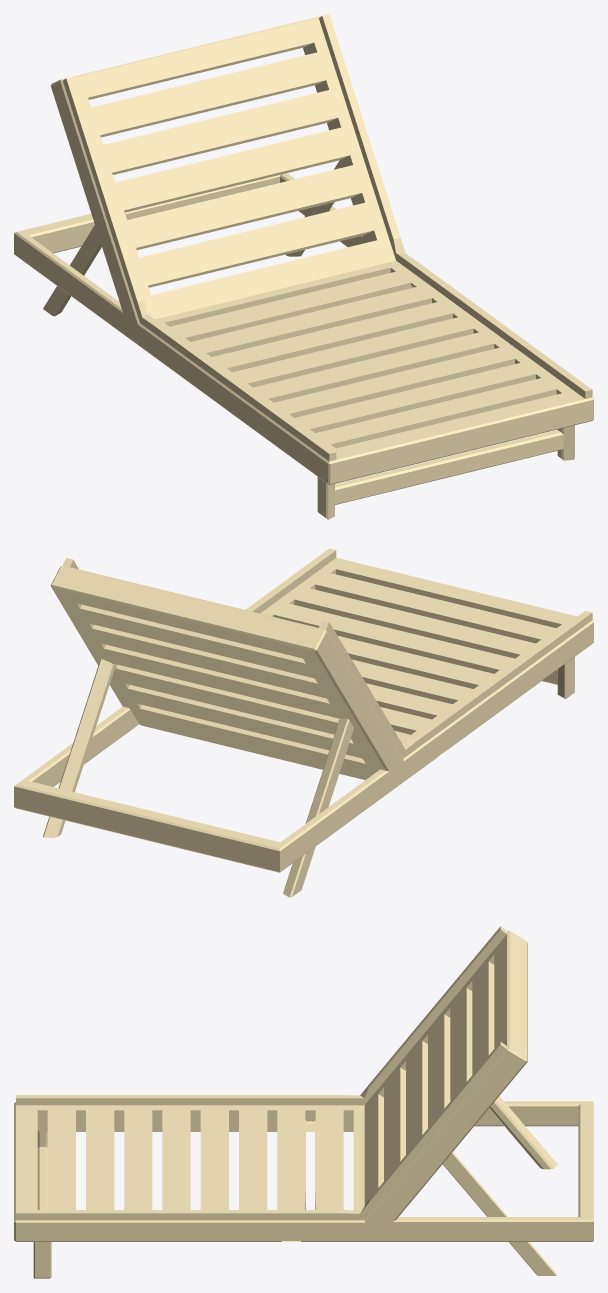
Rendered from sling_chair_01.fbx.
3 views of the same model, one above another, from view 1: azimuth 30°, elevation 25°; view 2: azimuth 150°, elevation 25°; view 3: azimuth 270°, elevation 25° (orthographic). The views are drawn at different scales.
Parts seen in each view (by area): view 1: sling_cjair.001; view 2: sling_cjair.001; view 3: sling_cjair.001.
Part boxes in pixels (x1,y1,x2,y2): sling_cjair.001: [14, 14, 593, 519]; sling_cjair.001: [14, 548, 593, 897]; sling_cjair.001: [14, 926, 593, 1278].
Bounding box in the file's own units: 123 × 114 × 252.
